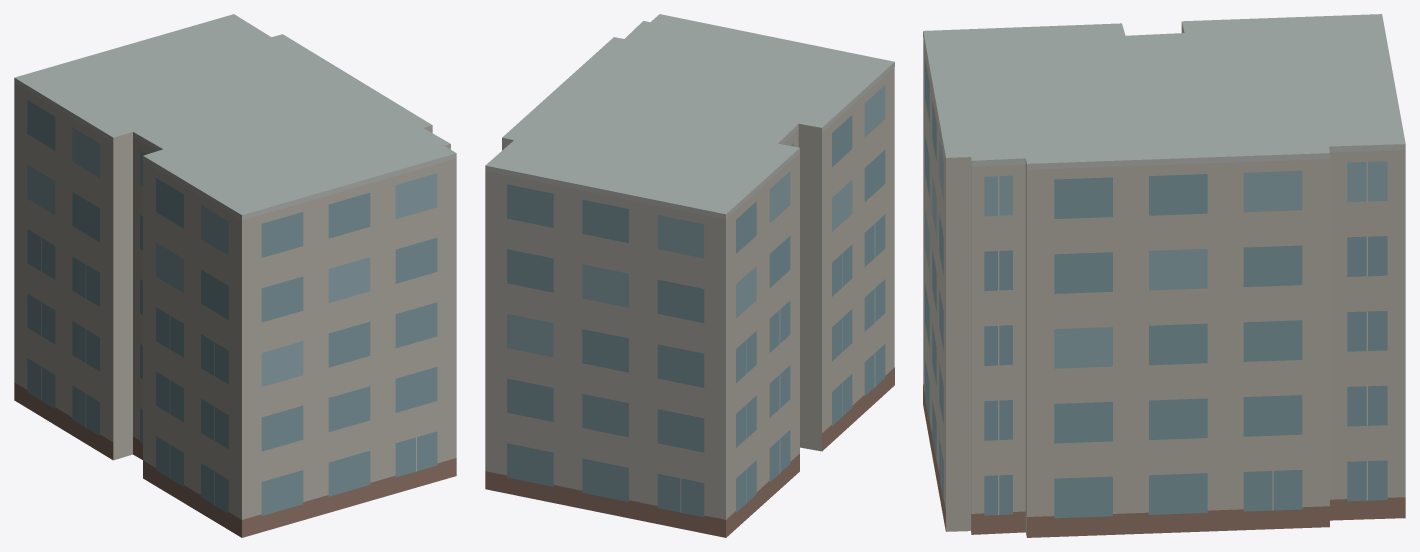
Rendered from survey-upis-32777989.glb.
The picture shows the model from 3 angles, left to right: view 1: azimuth 30°, elevation 25°; view 2: azimuth 150°, elevation 25°; view 3: azimuth 270°, elevation 25°; orthographic projection. The views are drawn at different scales.
Visible parts, largest first — view 1: survey-upis-32777989.tmp; view 2: survey-upis-32777989.tmp; view 3: survey-upis-32777989.tmp.
Part boxes in pixels (x1,y1,x2,y2): survey-upis-32777989.tmp: [14, 14, 456, 537]; survey-upis-32777989.tmp: [485, 14, 894, 537]; survey-upis-32777989.tmp: [923, 14, 1405, 537].
Bounding box in the file's own units: 13.12 × 15.25 × 17.84.
